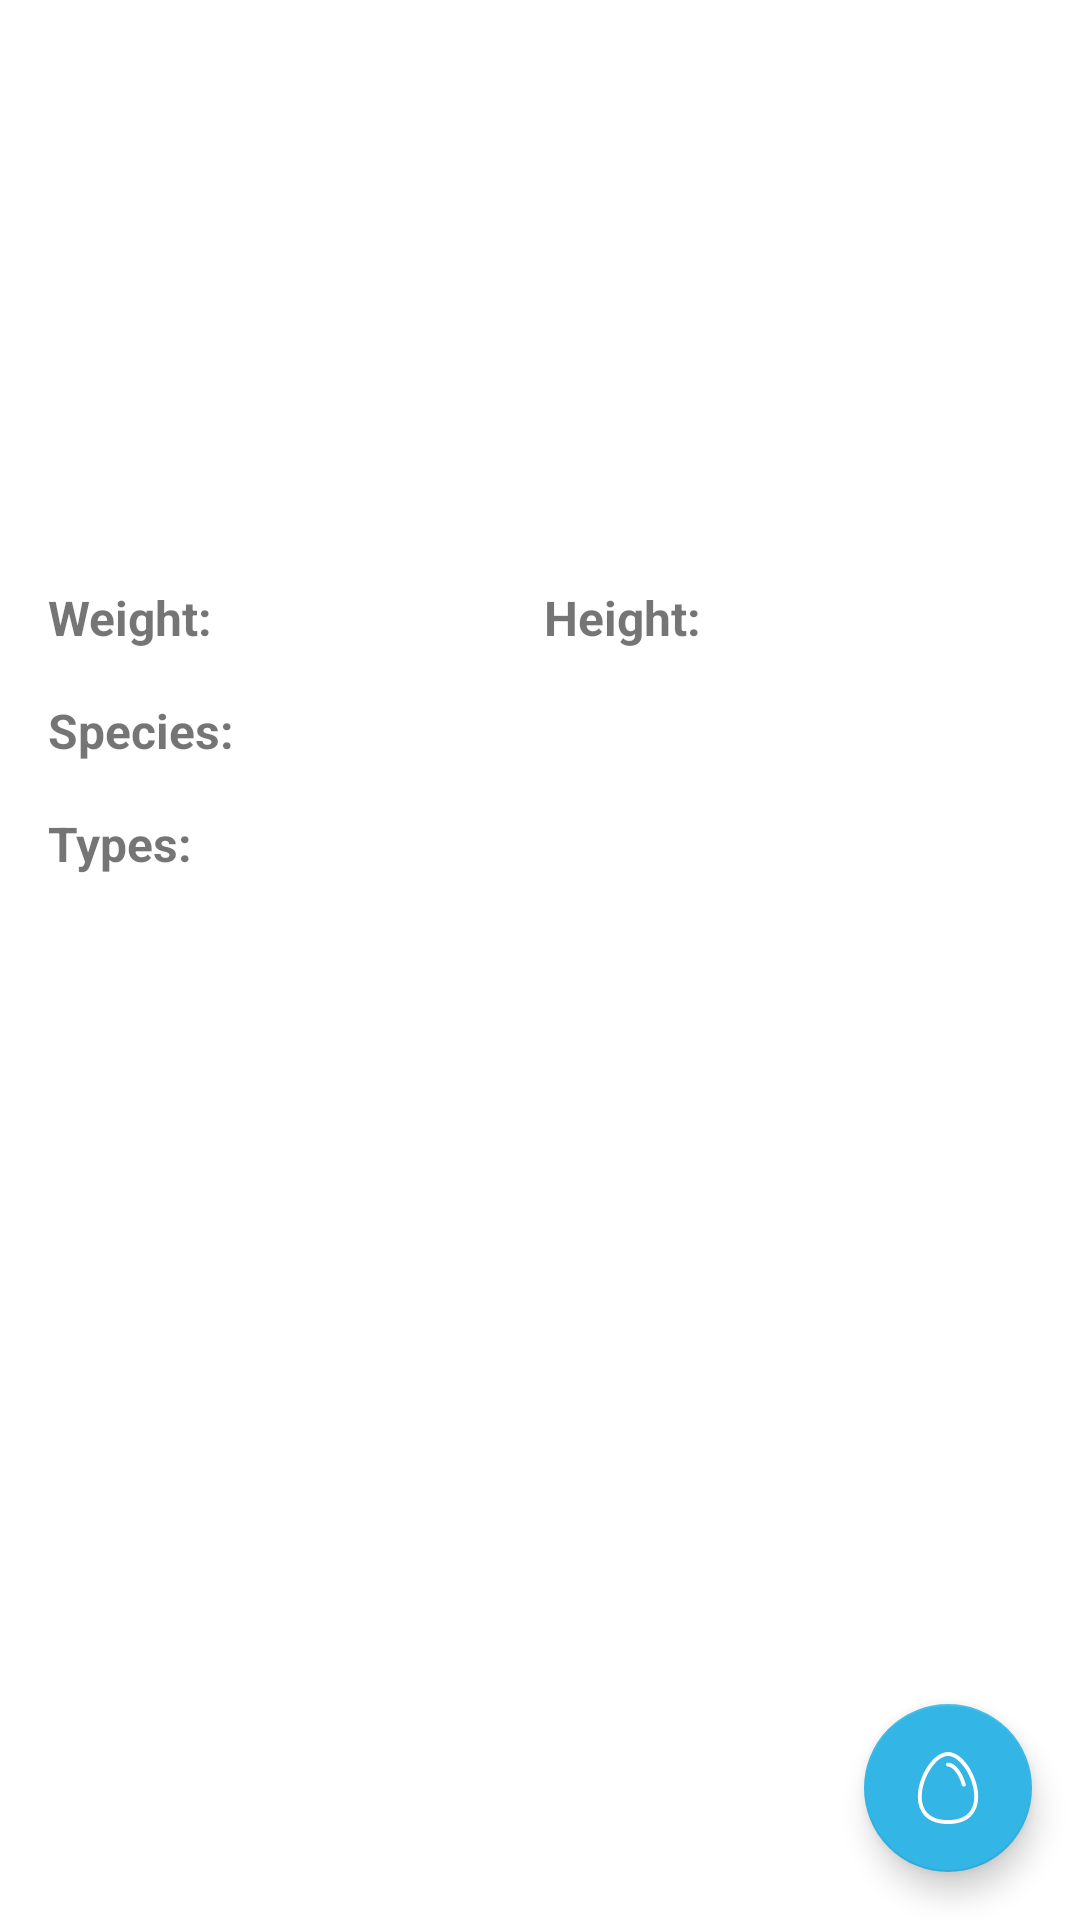

Where to tap for icons on this 1080*1920 app screen, as [x,y]:
egg: [948,1788]
